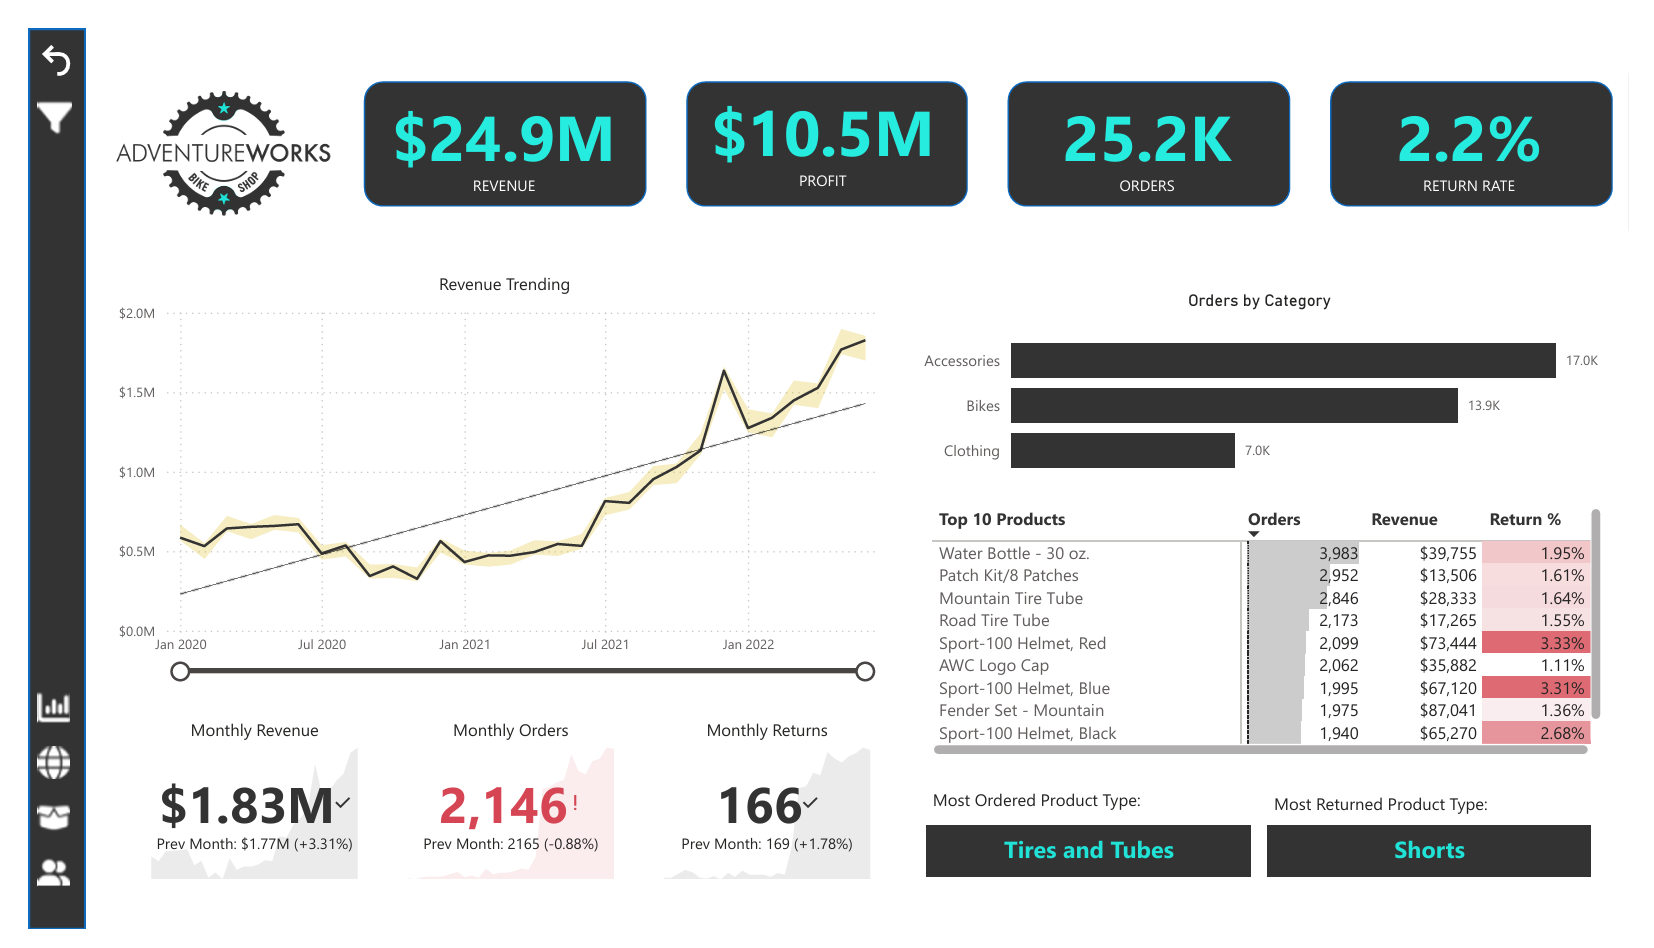

The page's visual inventory and layout, read from the dashboard file:
{"tool":"powerbi","page":{"name":"Exec Dashboard","canvas":[1280,720],"ordinal":0},"visuals":[{"type":"card","fields":{"Values":["Measure Table.Total Revenue"]},"box":[267.6,17.2,224.3,150],"z":0,"group":"g2"},{"type":"image","box":[43.2,41.9,224.3,114.9],"z":0},{"type":"shape","box":[267.6,41.9,225.7,100],"z":0,"group":"g1"},{"type":"actionButton","box":[3.1,525.8,38.1,34],"z":0,"group":"g3"},{"type":"shape","box":[0,0,45,720.3],"z":1000},{"type":"card","fields":{"Values":["Measure Table.Return Rate"]},"box":[1039.2,17.2,224.3,150],"z":1000,"group":"g2"},{"type":"shape","box":[525.3,41.9,225.7,100],"z":1000,"group":"g1"},{"type":"actionButton","box":[3.1,569.8,38.1,34],"z":1000,"group":"g3"},{"type":"group","id":"g1","title":"KPI Backgrounds","box":[267.6,41.9,998.6,100],"z":2000},{"type":"shape","box":[1040.6,41.9,225.7,100],"z":2000,"group":"g1"},{"type":"card","fields":{"Values":["Measure Table.Total Profit"]},"box":[531.7,45.3,205.4,86.5],"z":2000,"group":"g2"},{"type":"actionButton","box":[3.1,613.8,38.1,34],"z":2000,"group":"g3"},{"type":"group","id":"g2","title":"KPI Value","box":[267.6,17.2,995.9,150],"z":3000},{"type":"card","fields":{"Values":["Measure Table.Total Orders"]},"box":[782,17.2,224.3,150],"z":3000,"group":"g2"},{"type":"shape","box":[782.9,41.9,225.7,100],"z":3000,"group":"g1"},{"type":"actionButton","box":[3.1,657.8,38.1,34],"z":3000,"group":"g3"},{"type":"lineChart","title":"Revenue Trending","fields":{"Y":["Measure Table.Total Revenue"],"Category":["Calendar Lookup.Date Hierarchy.Start of Month"]},"box":[65.8,195.1,628.8,330.3],"z":4000},{"type":"kpi","title":"Monthly Revenue ","fields":{"Indicator":["Measure Table.Total Revenue"],"TrendLine":["Calendar Lookup.Start of Month"],"Goal":["Measure Table.Previous Month Revenue"]},"box":[92.7,552.3,175.4,133],"z":5000},{"type":"kpi","title":"Monthly Orders","fields":{"TrendLine":["Calendar Lookup.Start of Month"],"Indicator":["Measure Table.Total Orders"],"Goal":["Measure Table.Previous Month Orders"]},"box":[297.8,552.3,175.4,133],"z":6000},{"type":"kpi","title":"Monthly Returns","fields":{"TrendLine":["Calendar Lookup.Start of Month"],"Indicator":["Measure Table.Total Returns"],"Goal":["Measure Table.Previous Month Returns"]},"box":[502.9,552.3,175.4,133],"z":7000},{"type":"clusteredBarChart","title":"Orders by Category","fields":{"Category":["Product Categories Lookup.CategoryName"],"Y":["Measure Table.Total Orders"]},"box":[705.5,209.6,557.4,162.3],"z":8000},{"type":"pivotTable","fields":{"Rows":["Product Lookup.ProductName"],"Values":["Measure Table.Total Orders","Measure Table.Total Revenue","Measure Table.Return Rate"]},"box":[718.2,377.9,544.5,207.8],"z":9000},{"type":"card","fields":{"Values":["Min(Product Subcategories Lookup.SubcategoryName)"]},"box":[718.3,636.5,259.4,41.9],"z":10000},{"type":"textbox","box":[718.3,602.6,194.5,30.9],"z":11000},{"type":"card","fields":{"Values":["Min(Product Subcategories Lookup.SubcategoryName)"]},"box":[990.7,636.5,259.4,41.9],"z":12000},{"type":"textbox","box":[990.7,605.6,194.5,30.9],"z":13000},{"type":"actionButton","box":[4.7,3.5,34.1,42.3],"z":14000},{"type":"group","id":"g3","title":"Navigation Buttons","box":[3.1,525.8,38.1,166],"z":15000},{"type":"actionButton","box":[3.1,51.5,36.1,37.1],"z":16000}]}

Visuals, with their boxes on the page's 1280x720 design canvas (x1, y1, x2, y2). These are canvas units, not pixel positions in the 1654x948 screenshot, which may show the page scaled, cropped or inside an application window:
card - Measure Table.Total Revenue: (268,17,492,167)
image: (43,42,268,157)
shape: (268,42,493,142)
actionButton: (3,526,41,560)
shape: (0,0,45,720)
card - Measure Table.Return Rate: (1039,17,1264,167)
shape: (525,42,751,142)
actionButton: (3,570,41,604)
"KPI Backgrounds" group: (268,42,1266,142)
shape: (1041,42,1266,142)
card - Measure Table.Total Profit: (532,45,737,132)
actionButton: (3,614,41,648)
"KPI Value" group: (268,17,1264,167)
card - Measure Table.Total Orders: (782,17,1006,167)
shape: (783,42,1009,142)
actionButton: (3,658,41,692)
"Revenue Trending" lineChart: (66,195,695,525)
"Monthly Revenue " kpi: (93,552,268,685)
"Monthly Orders" kpi: (298,552,473,685)
"Monthly Returns" kpi: (503,552,678,685)
"Orders by Category" clusteredBarChart: (706,210,1263,372)
pivotTable - Product Lookup.ProductName x Measure Table.Total Orders: (718,378,1263,586)
card - Min(Product Subcategories Lookup.SubcategoryName): (718,636,978,678)
textbox: (718,603,913,634)
card - Min(Product Subcategories Lookup.SubcategoryName): (991,636,1250,678)
textbox: (991,606,1185,636)
actionButton: (5,4,39,46)
"Navigation Buttons" group: (3,526,41,692)
actionButton: (3,52,39,89)
